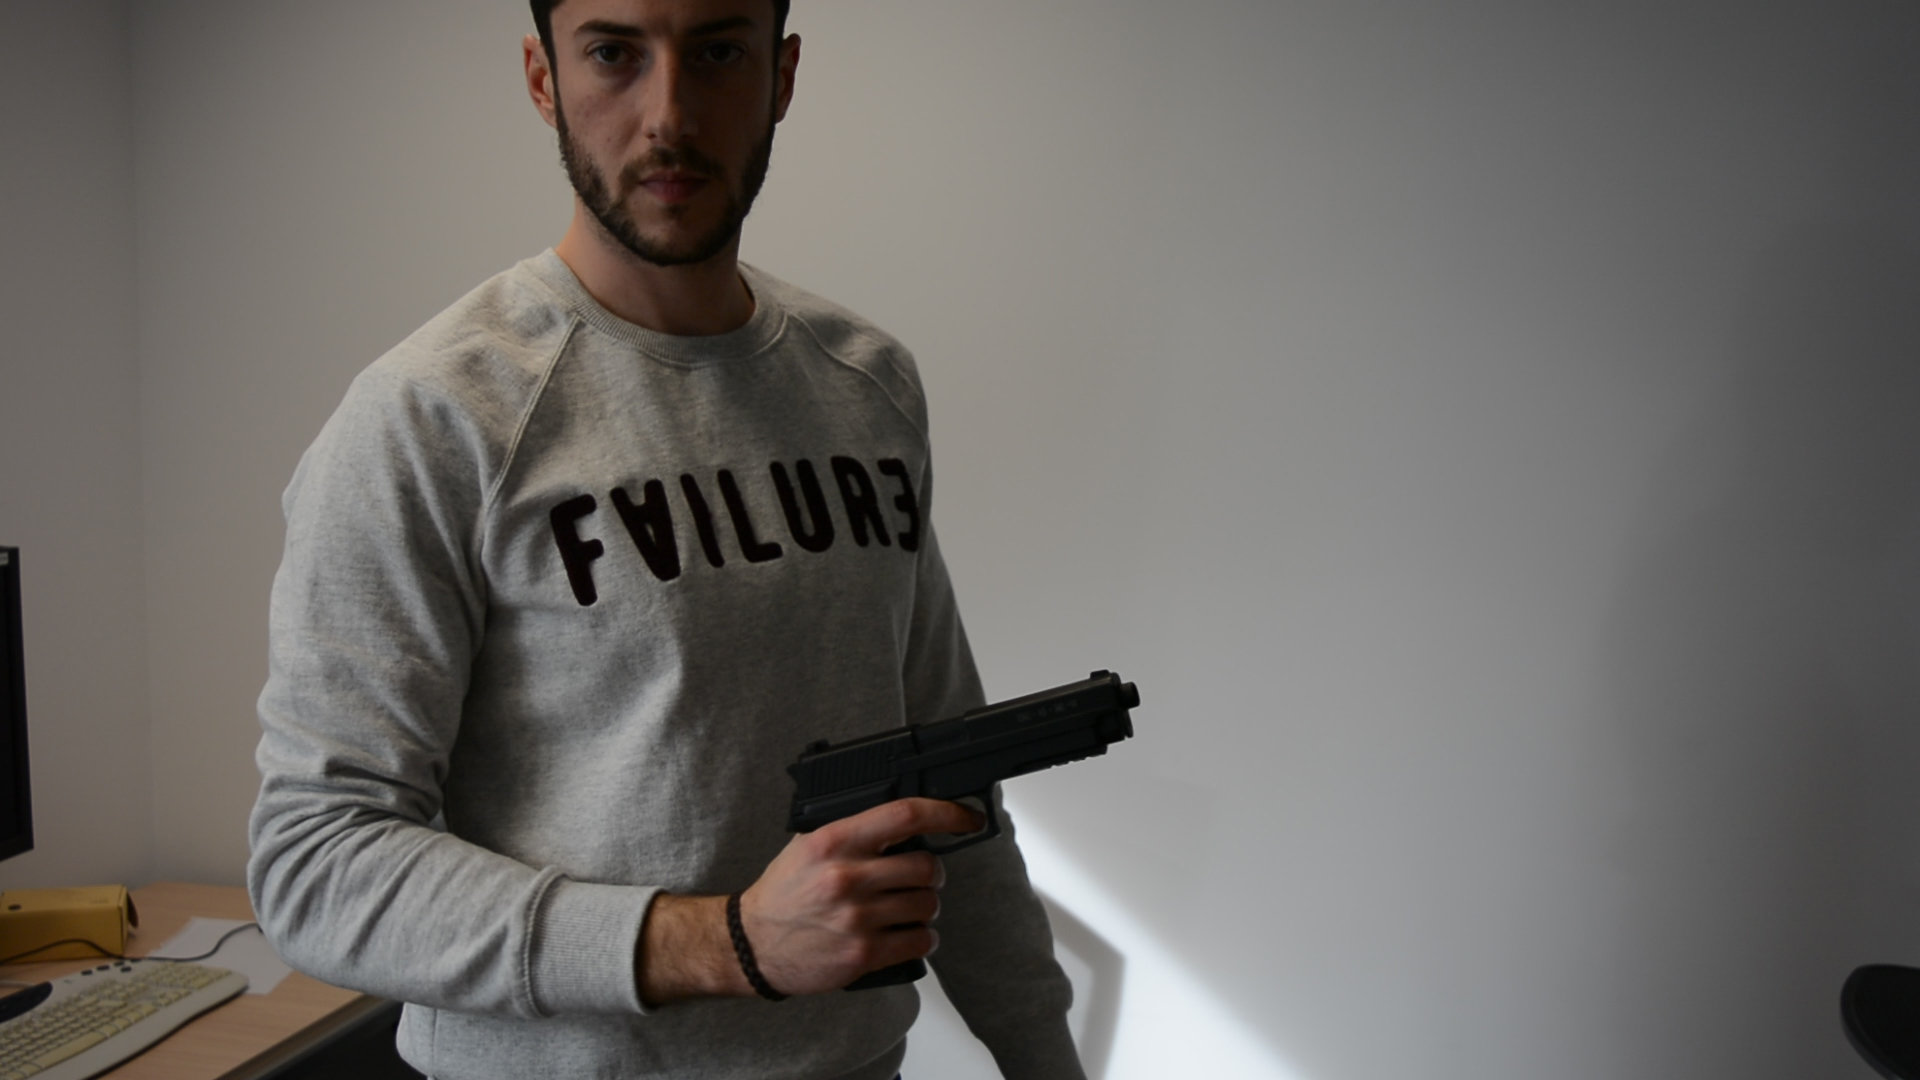pistol: (781, 667, 1142, 996)
